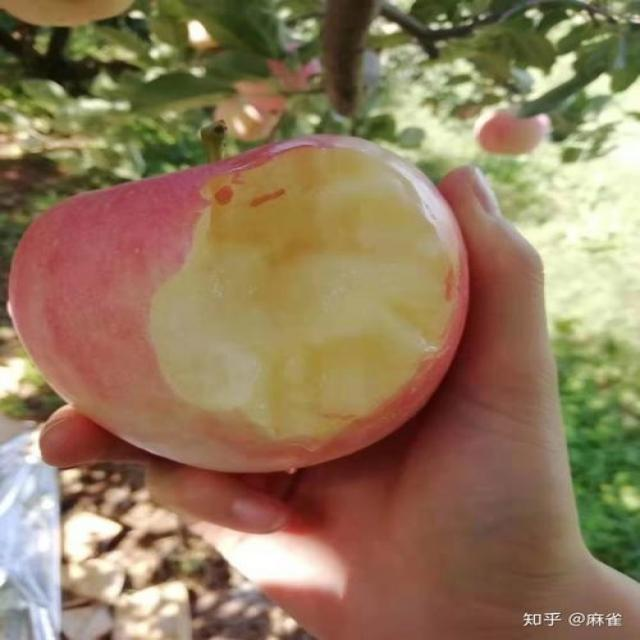Rotten: (2, 139, 474, 476)
